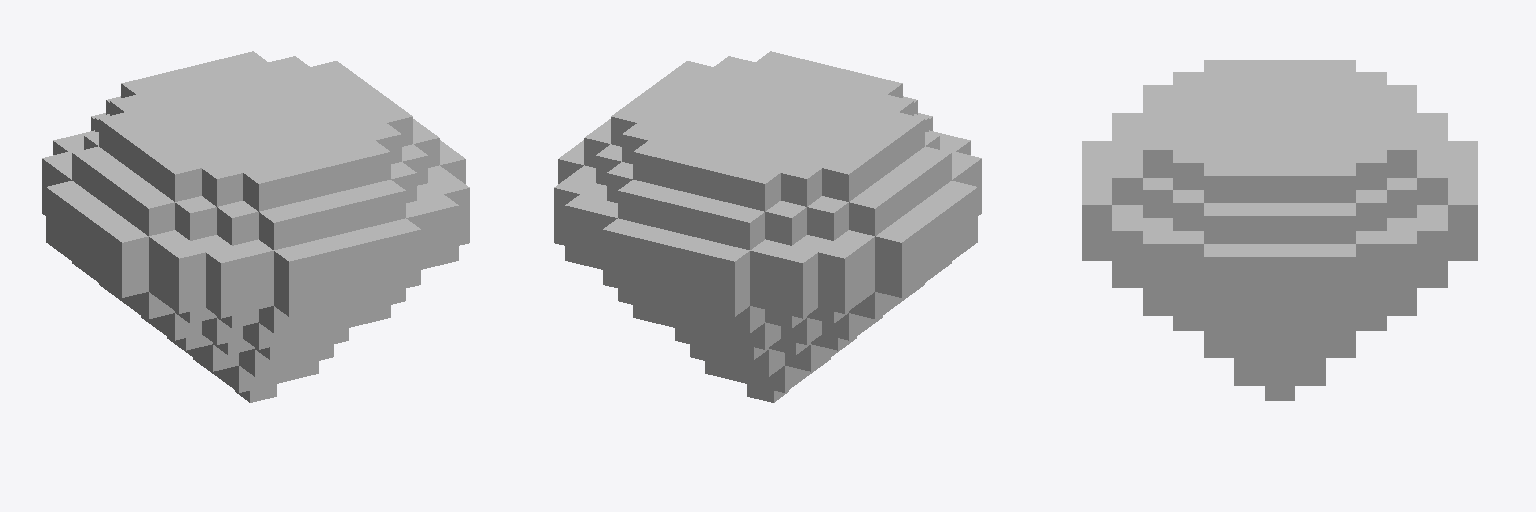
Rendered from diamond.obj.
3 views of the same model, side by side, from view 1: azimuth 30°, elevation 25°; view 2: azimuth 150°, elevation 25°; view 3: azimuth 270°, elevation 25° (orthographic).
Visible parts, largest first — view 1: object 1; view 2: object 1; view 3: object 1.
Part boxes in pixels (left/top/right/bottom): object 1: left=42, top=51, right=469, bottom=402; object 1: left=554, top=51, right=981, bottom=402; object 1: left=1082, top=60, right=1477, bottom=400.
Size of the model in its own units: 1.3 by 1 by 1.3.